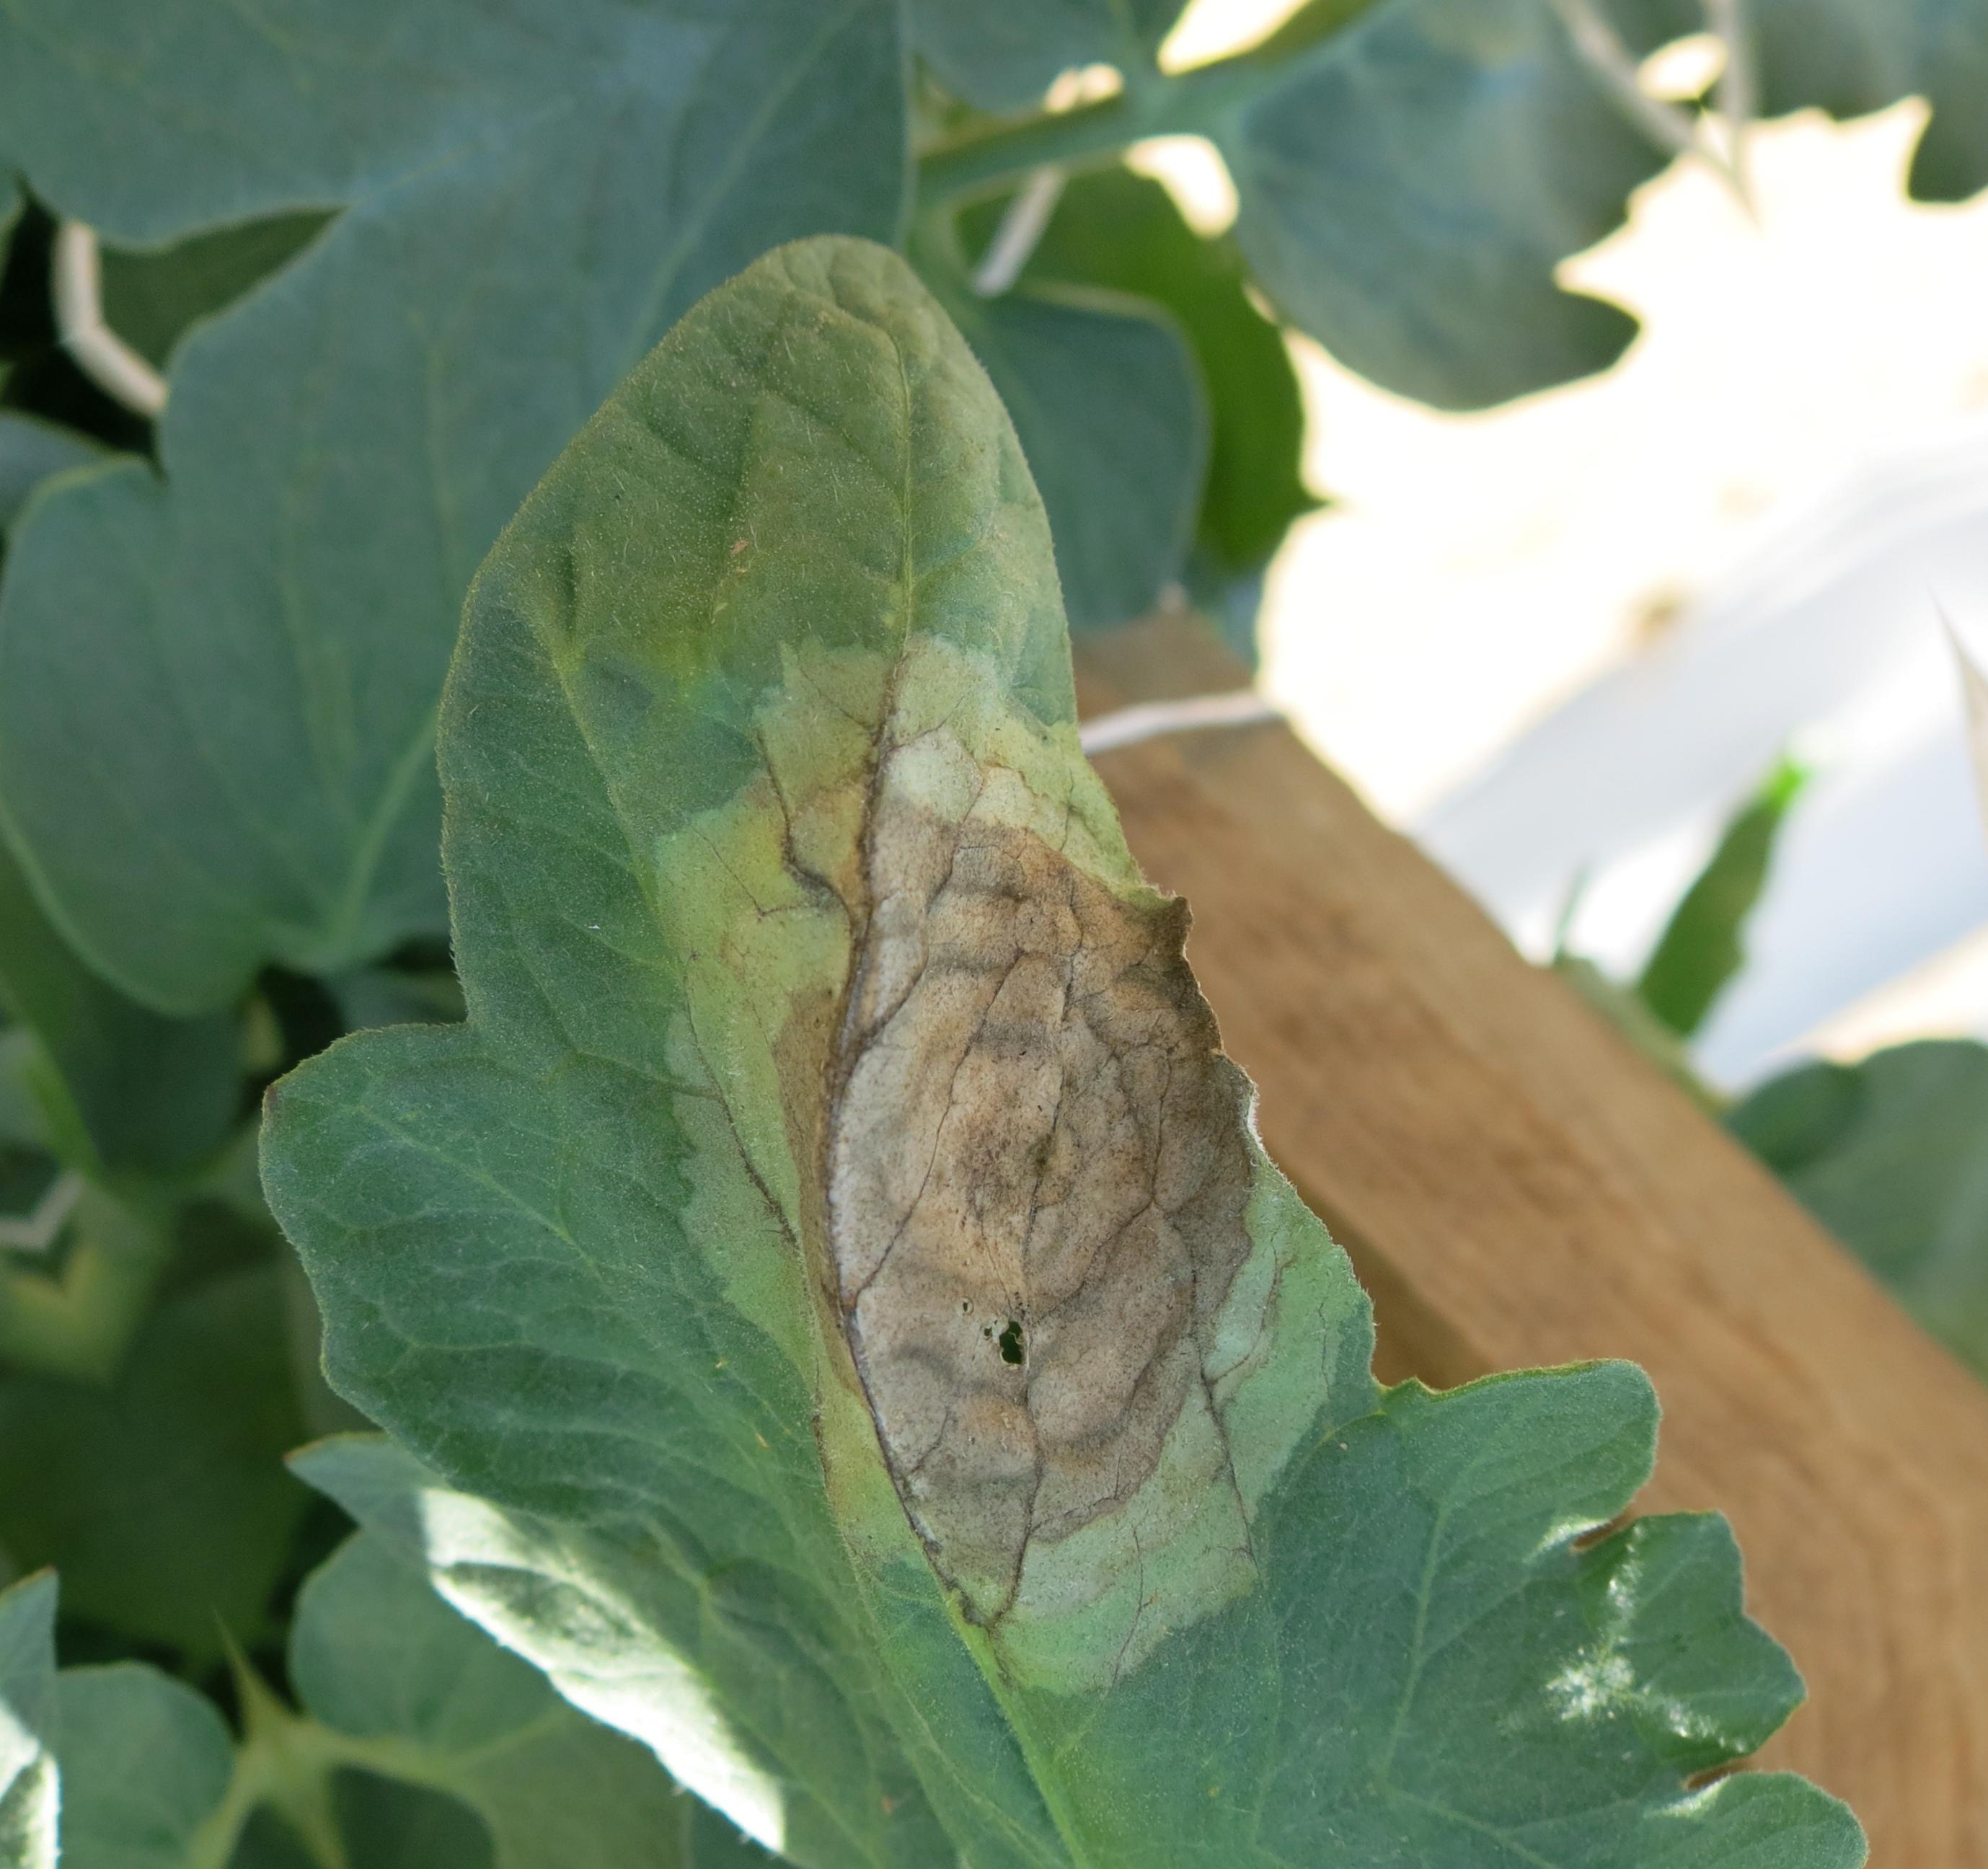Tomato leaf late blight: (0, 47, 1781, 1869)
